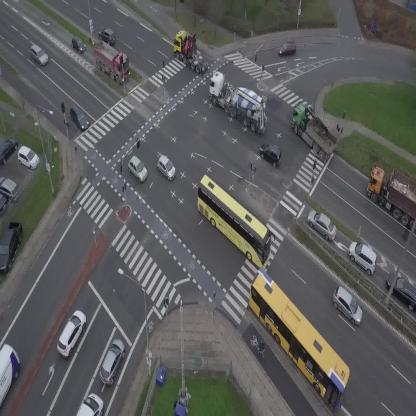bicycle: (258, 340, 264, 357)
bus: (231, 266, 365, 412), (182, 173, 286, 271)
car: (52, 308, 91, 358), (326, 285, 370, 327), (96, 336, 130, 387), (343, 237, 385, 277), (302, 206, 342, 244), (256, 138, 287, 169), (123, 155, 152, 184), (65, 102, 91, 133), (153, 154, 181, 181), (26, 42, 51, 67), (96, 25, 119, 46), (67, 33, 88, 55), (278, 41, 297, 56)
lorry: (197, 69, 280, 137), (281, 98, 343, 162), (85, 36, 139, 87), (166, 24, 212, 81), (0, 344, 20, 406), (77, 393, 104, 416)
